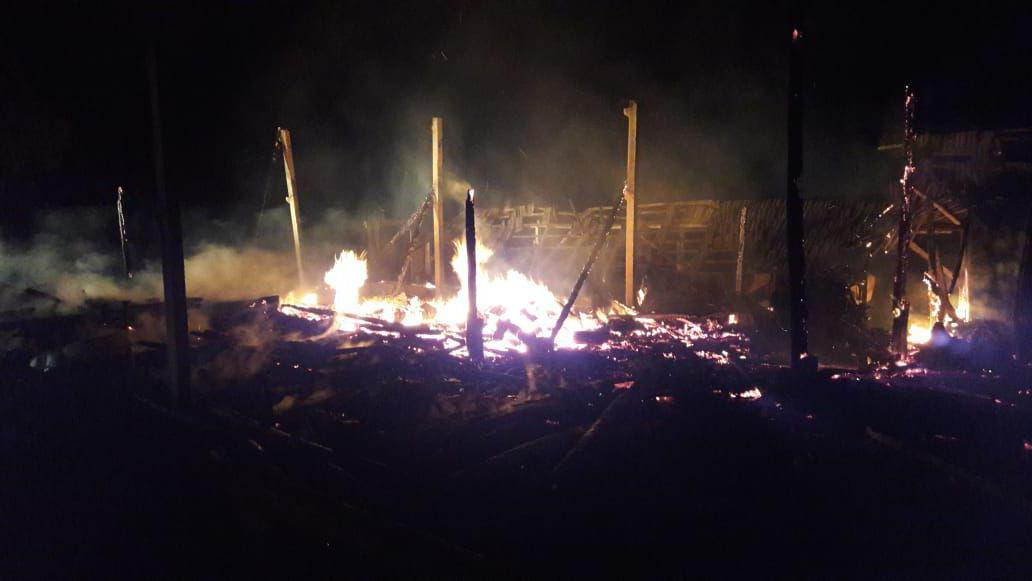Fire: (273, 232, 597, 361), (598, 312, 747, 369), (907, 267, 972, 352), (734, 386, 764, 403)
